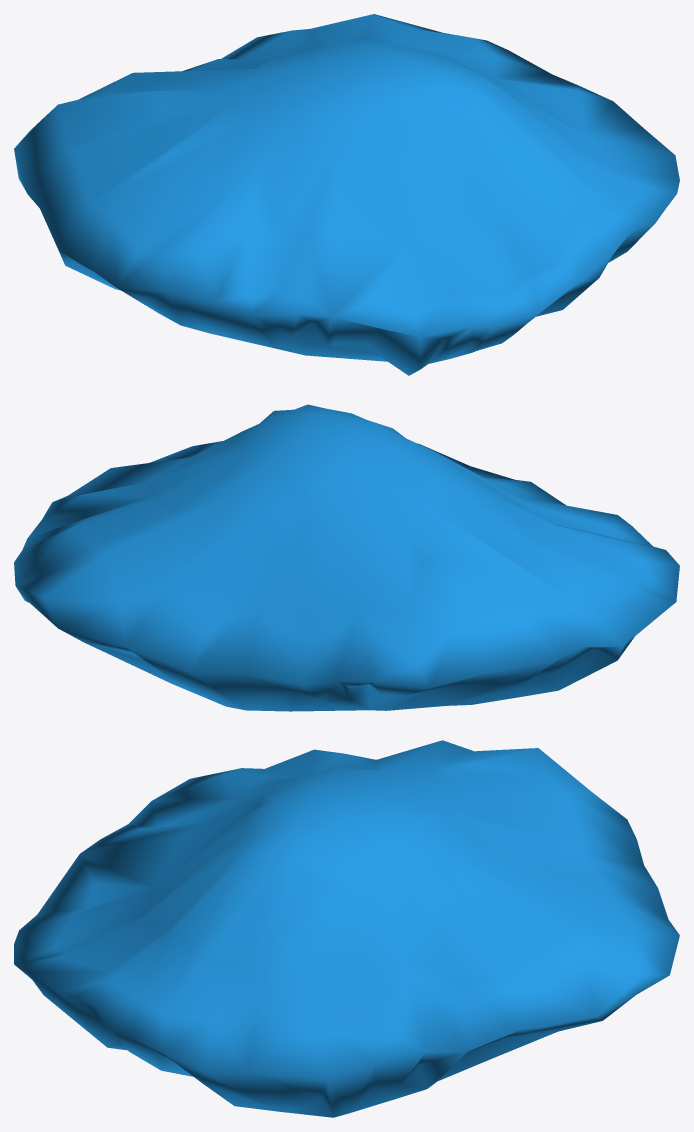
The model's file is SM_mushroom_blue_02.fbx.
The picture shows the model from 3 angles, top to bottom: view 1: azimuth 30°, elevation 25°; view 2: azimuth 150°, elevation 25°; view 3: azimuth 270°, elevation 25°; orthographic projection. The views are drawn at different scales.
Visible parts, largest first — view 1: mushroom_blue_02; view 2: mushroom_blue_02; view 3: mushroom_blue_02.
Boxes of the visible parts, box(x1,y1,x2,y2) form: mushroom_blue_02: box(14, 14, 679, 375); mushroom_blue_02: box(14, 404, 679, 711); mushroom_blue_02: box(14, 740, 679, 1117).
Bounding box in the file's own units: 443 × 166 × 417.
